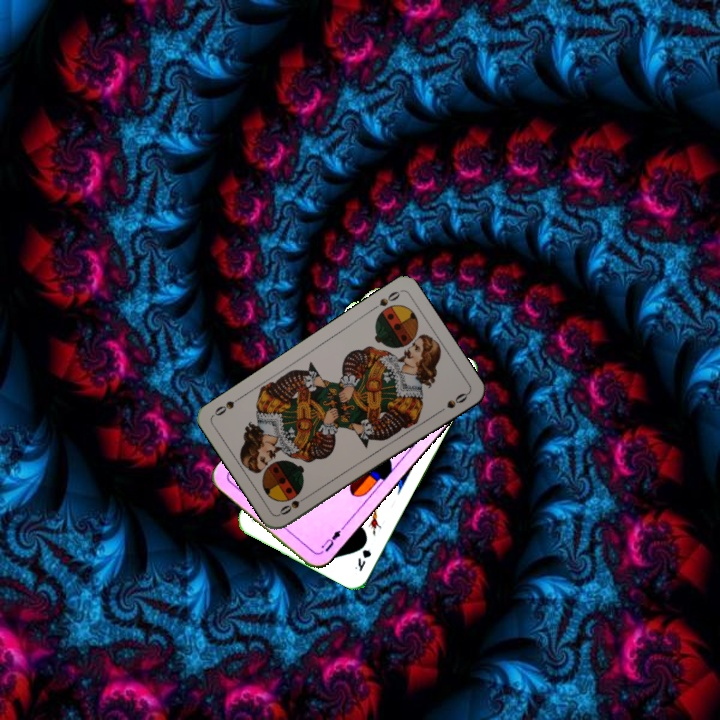EU: (316, 526, 344, 556)
GK: (350, 544, 374, 574)
SO: (275, 491, 312, 518), (367, 287, 403, 314)
